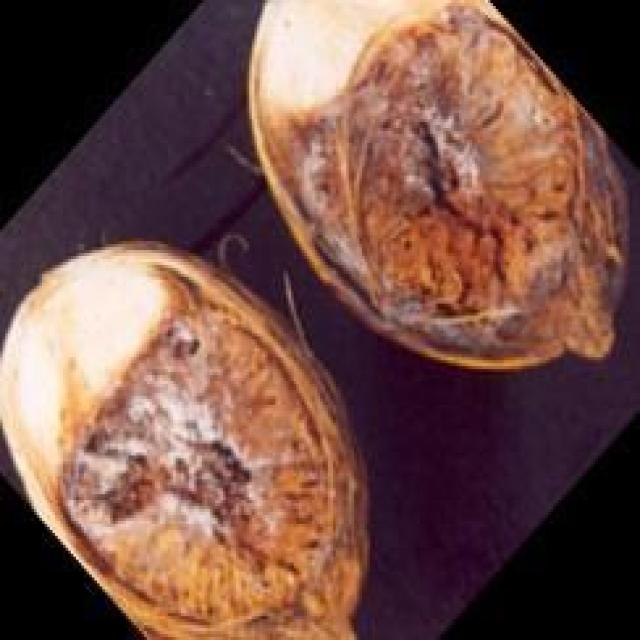damaged: (0, 238, 372, 637), (247, 0, 630, 375)
